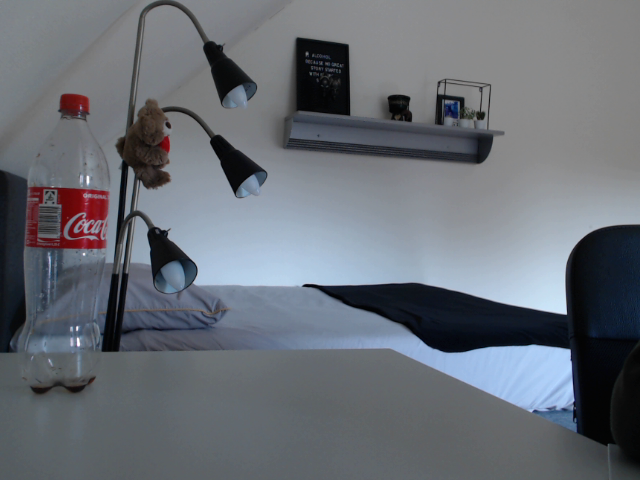bottle: (22, 92, 111, 396)
